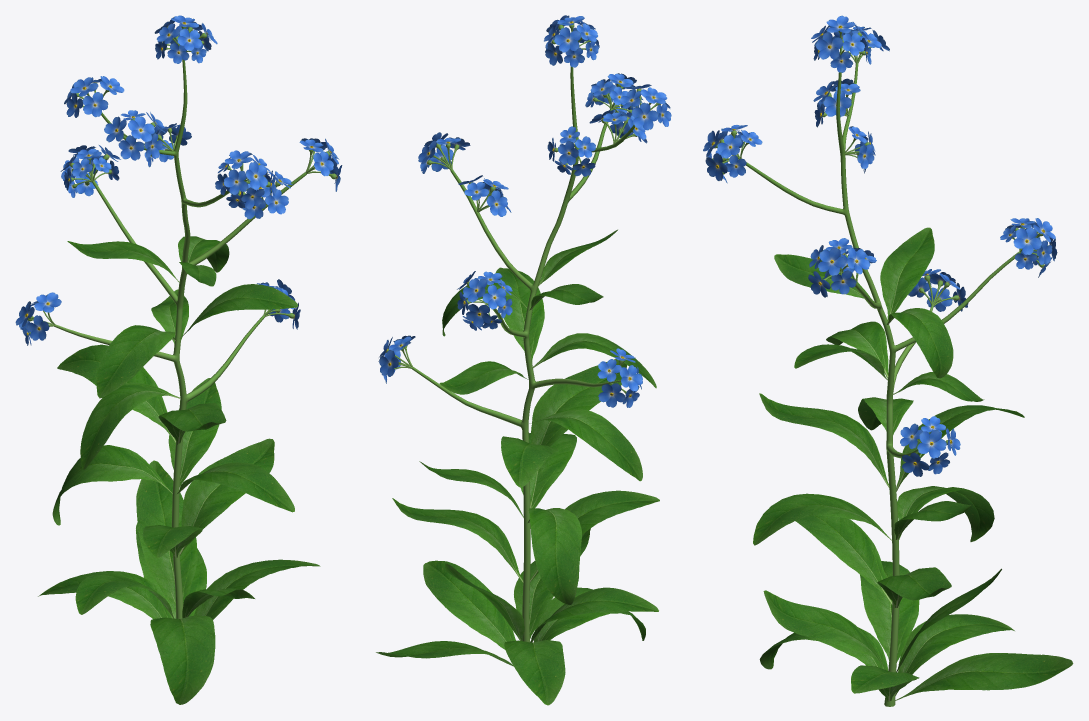
The model's file is cgaxis_models_91_51_fbx.fbx.
3 views of the same model, side by side, from view 1: azimuth 30°, elevation 25°; view 2: azimuth 150°, elevation 25°; view 3: azimuth 270°, elevation 25° (orthographic). The views are drawn at different scales.
Parts seen in each view (by area): view 1: cgaxis_models_91_51_01; view 2: cgaxis_models_91_51_01; view 3: cgaxis_models_91_51_01.
Part boxes in pixels (<box>): cgaxis_models_91_51_01: <box>15,15,342,704</box>; cgaxis_models_91_51_01: <box>376,15,671,705</box>; cgaxis_models_91_51_01: <box>703,15,1073,706</box>.
Bounding box in the file's own units: 5.37 × 12.34 × 6.21.
1 material, 1 textured.
